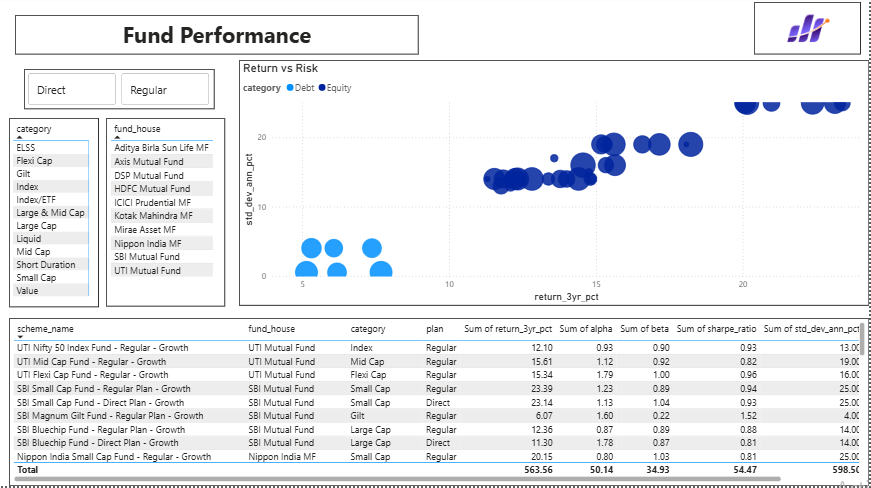

What the dashboard file says about the page in this screenshot:
{"tool":"powerbi","page":{"name":"Fund Performance ","canvas":[1280,720],"ordinal":1},"visuals":[{"type":"tableEx","fields":{"Values":["clean_scheme_performance.fund_house"]},"box":[158.3,179.1,174.6,276.7],"z":0},{"type":"pivotTable","fields":{"Rows":["clean_scheme_performance.category"]},"box":[16.3,179.1,131.7,278.2],"z":1000},{"type":"advancedSlicerVisual","fields":{"Values":["clean_scheme_performance.plan"]},"box":[38.5,106.5,279.7,59.2],"z":2000},{"type":"scatterChart","title":"Return vs Risk","fields":{"X":["clean_scheme_performance.return_3yr_pct"],"Y":["clean_scheme_performance.std_dev_ann_pct"],"Series":["clean_fund_master csv.category"],"Size":["Sum(clean_scheme_performance.aum_crore)"]},"box":[354.1,94,925.7,361.5],"z":3000},{"type":"tableEx","fields":{"Values":["clean_scheme_performance.scheme_name","clean_scheme_performance.fund_house","clean_scheme_performance.category","clean_scheme_performance.plan","Sum(clean_scheme_performance.return_3yr_pct)","Sum(clean_scheme_performance.alpha)","Sum(clean_scheme_performance.beta)","Sum(clean_scheme_performance.sharpe_ratio)","Sum(clean_scheme_performance.std_dev_ann_pct)","Sum(clean_scheme_performance.aum_crore)"]},"box":[16.3,473.5,1263.7,247.1],"z":4000},{"type":"textbox","box":[24.3,28.1,593.2,58],"z":4001},{"type":"image","box":[1111.3,8.9,156.9,76.9],"z":4002}]}

Visuals, with their boxes in screenshot pixels (x1, y1, x2, y2), scaled from the page's 1280x720 canvas onto the 871x488 screenshot:
tableEx - clean_scheme_performance.fund_house: {"x1": 108, "y1": 121, "x2": 227, "y2": 309}
pivotTable - clean_scheme_performance.category: {"x1": 11, "y1": 121, "x2": 101, "y2": 310}
advancedSlicerVisual - clean_scheme_performance.plan: {"x1": 26, "y1": 72, "x2": 217, "y2": 112}
"Return vs Risk" scatterChart: {"x1": 241, "y1": 64, "x2": 870, "y2": 309}
tableEx - clean_scheme_performance.scheme_name x clean_scheme_performance.fund_house: {"x1": 11, "y1": 321, "x2": 870, "y2": 487}
textbox: {"x1": 17, "y1": 19, "x2": 420, "y2": 58}
image: {"x1": 756, "y1": 6, "x2": 863, "y2": 58}
